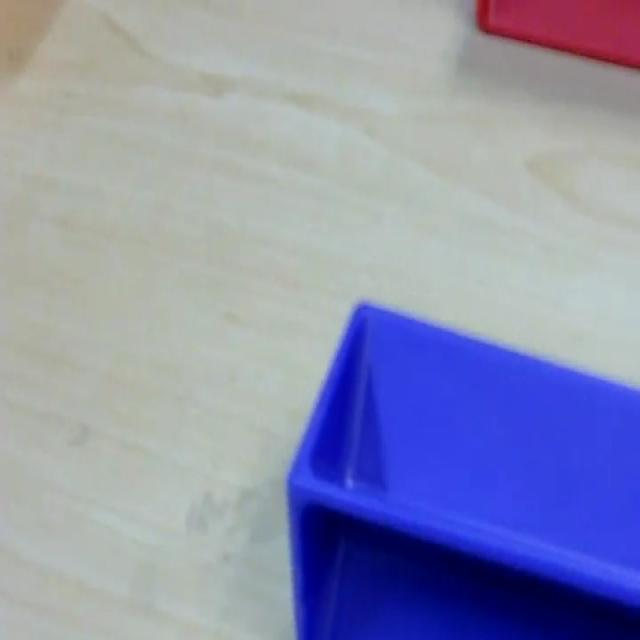blue_block: (285, 296, 639, 636)
